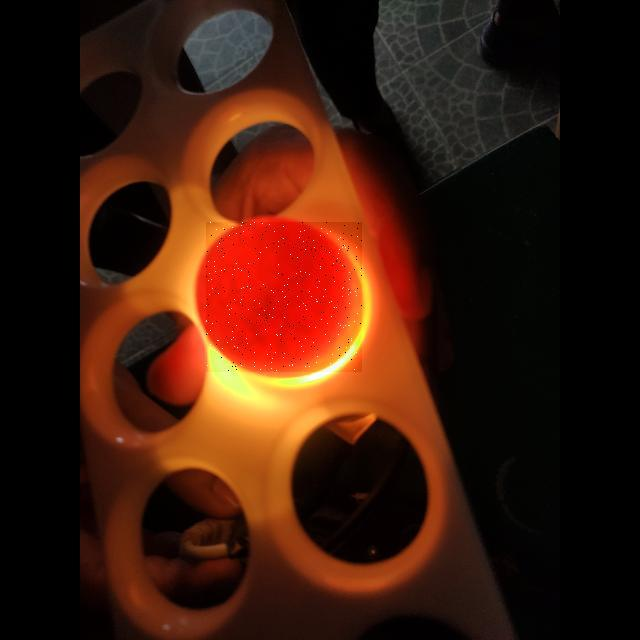Infertile: (206, 222, 362, 372)
